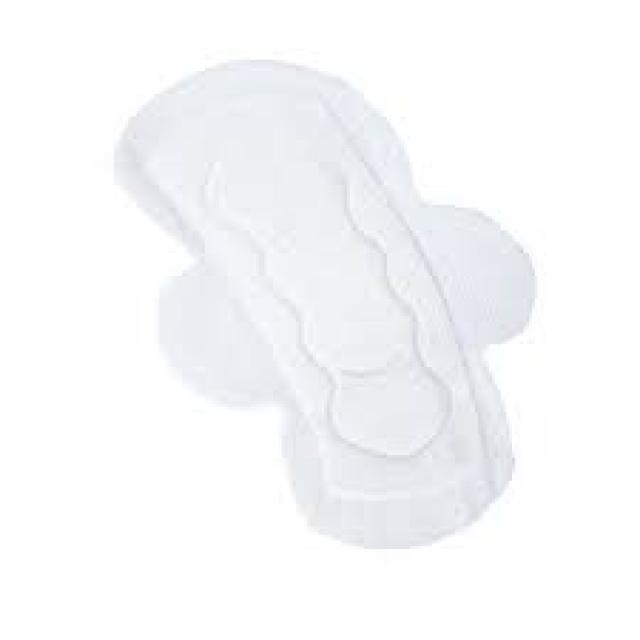napkin: (120, 63, 530, 548)
